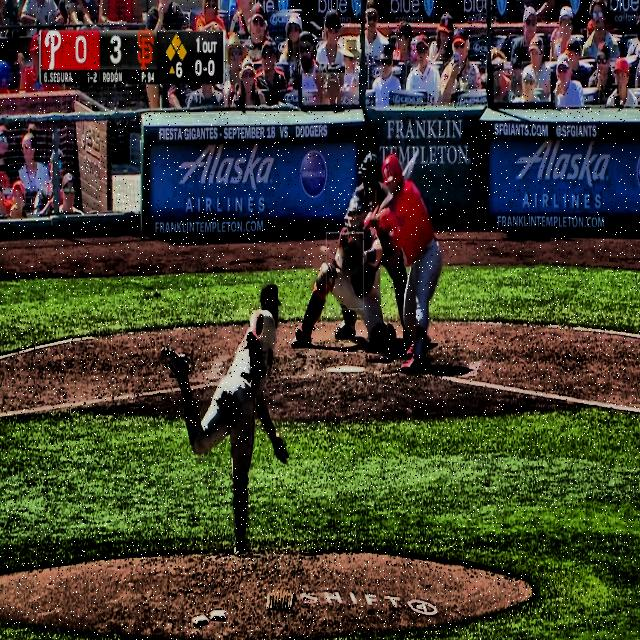baseball: (320, 246, 327, 254)
